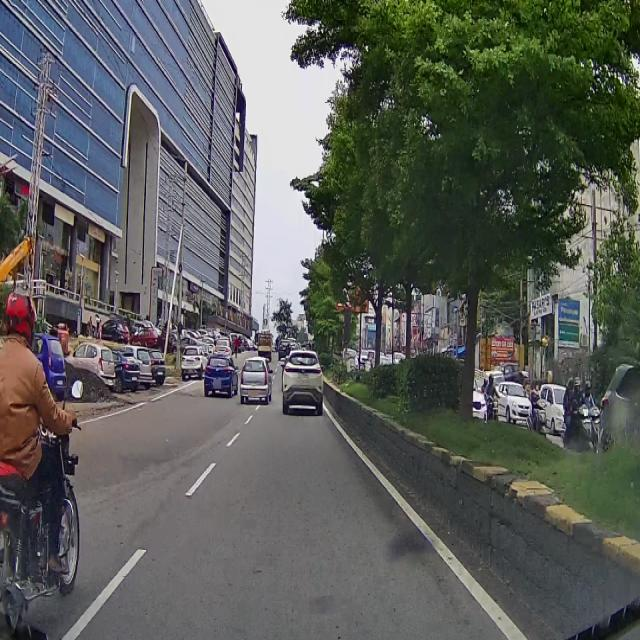car ahead at: (278, 346, 328, 416)
motorcycle ahead at: (2, 406, 86, 612)
